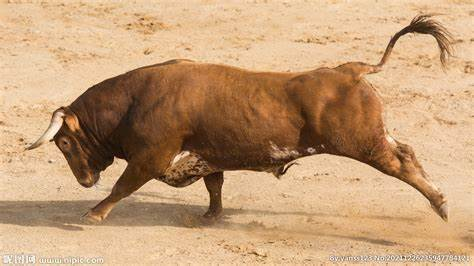background: (39, 6, 456, 224)
